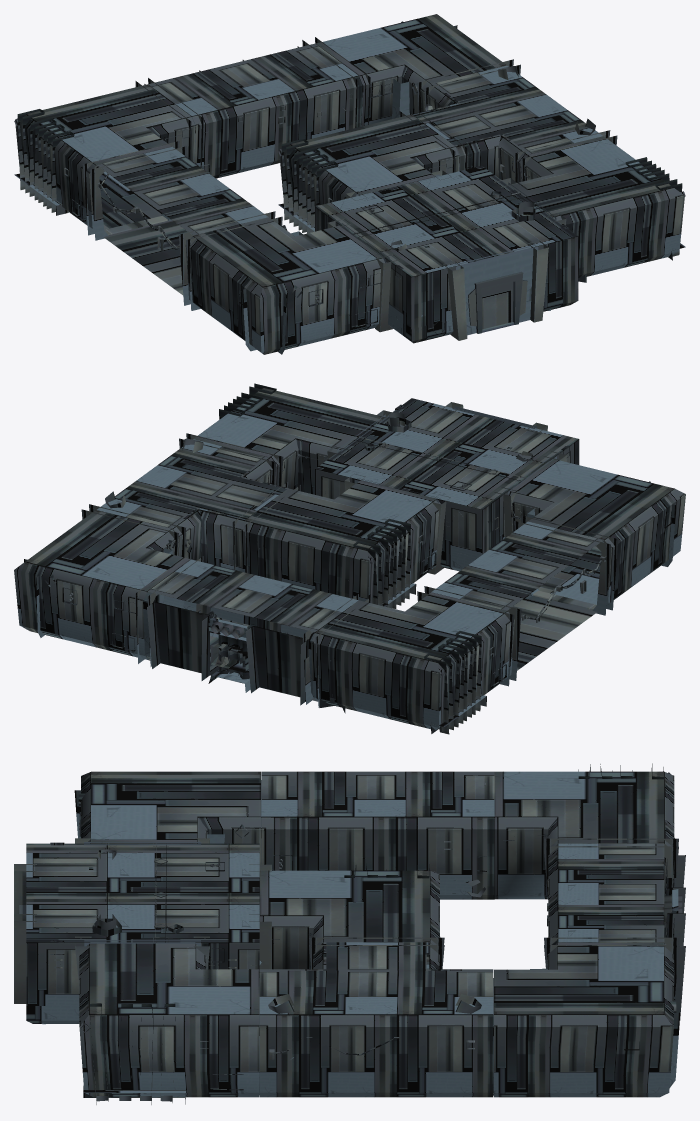
The model's file is Combined_Mesh_root_scene__20_a4a1e6c2__zombies2_diffuse_03_64bb9bc2_c1f257.obj.
The picture shows the model from 3 angles, top to bottom: view 1: azimuth 30°, elevation 25°; view 2: azimuth 150°, elevation 25°; view 3: azimuth 270°, elevation 25°; orthographic projection. The views are drawn at different scales.
Bounding box in the file's own units: 51.83 × 9.64 × 57.56.
Materials: 132 (132 with a texture image).
